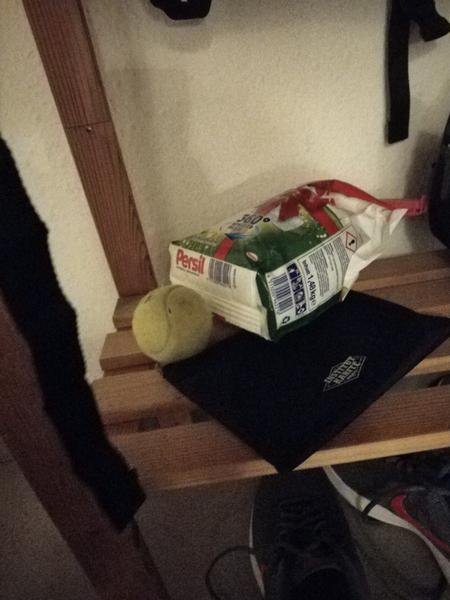Tennisball: (130, 281, 214, 366)
